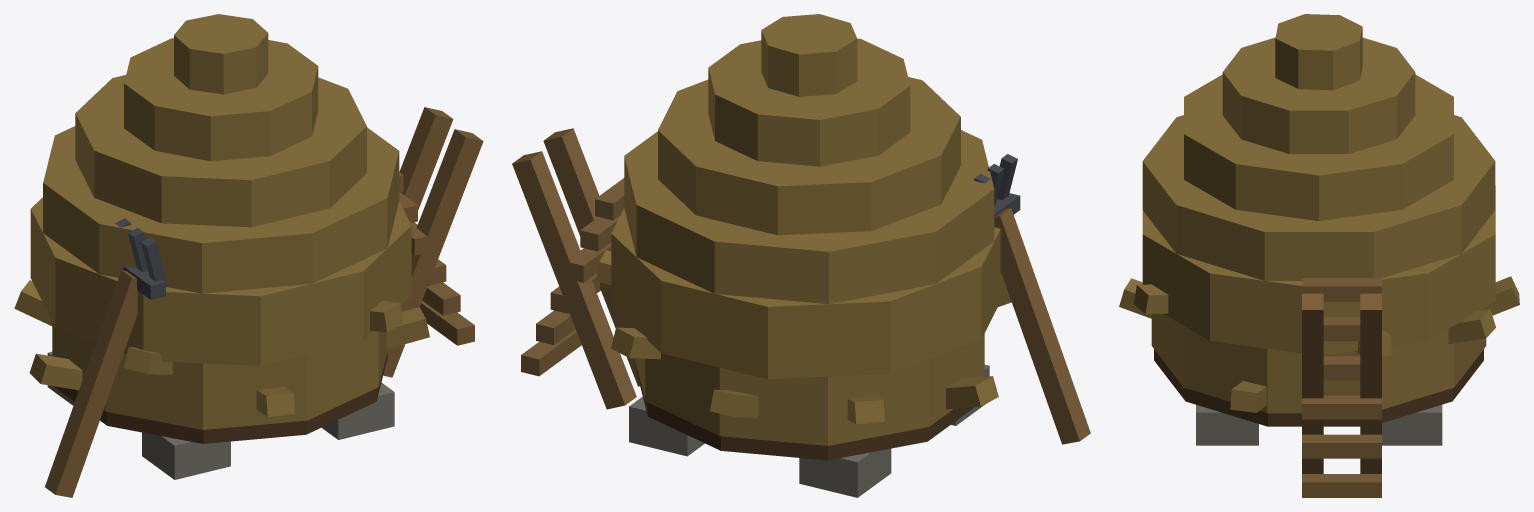
File: haystack.glb
3 renders of one model, left to right at view 1: azimuth 30°, elevation 25°; view 2: azimuth 150°, elevation 25°; view 3: azimuth 270°, elevation 25°, orthographic. The views are drawn at different scales.
Parts seen in each view (by area): view 1: thatch, timber_light, stone, timber, iron; view 2: thatch, timber_light, stone, timber, iron; view 3: thatch, timber_light, stone, timber.
Part boxes in pixels (left/top/right/bottom): thatch: left=14, top=14, right=429, bottom=429; timber_light: left=45, top=107, right=483, bottom=497; stone: left=47, top=352, right=394, bottom=479; timber: left=54, top=352, right=387, bottom=443; iron: left=115, top=218, right=167, bottom=299; thatch: left=595, top=14, right=1011, bottom=445; timber_light: left=512, top=128, right=1090, bottom=444; stone: left=629, top=364, right=989, bottom=497; timber: left=636, top=365, right=973, bottom=460; iron: left=974, top=154, right=1020, bottom=227; thatch: left=1119, top=14, right=1519, bottom=413; timber_light: left=1302, top=278, right=1381, bottom=497; stone: left=1196, top=405, right=1442, bottom=445; timber: left=1154, top=349, right=1483, bottom=426.
Size of the model in its own units: 46.11 by 35.19 by 35.
